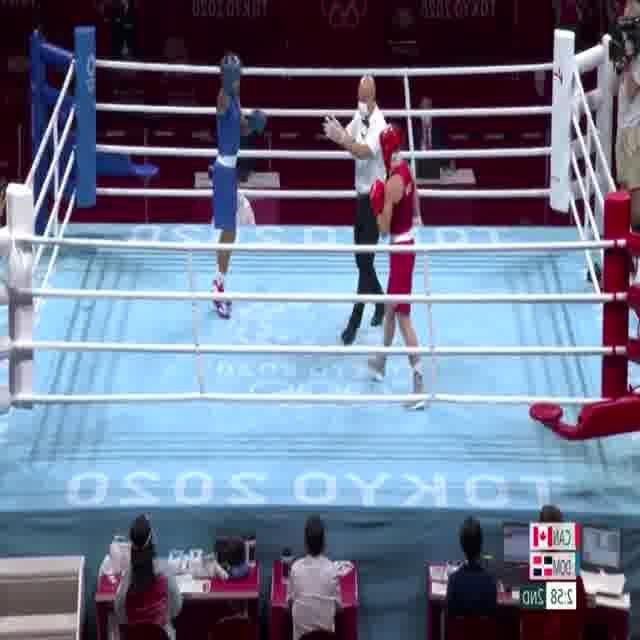blue-player: (207, 51, 270, 320)
red-player: (362, 120, 433, 414)
referee: (321, 72, 394, 350)
